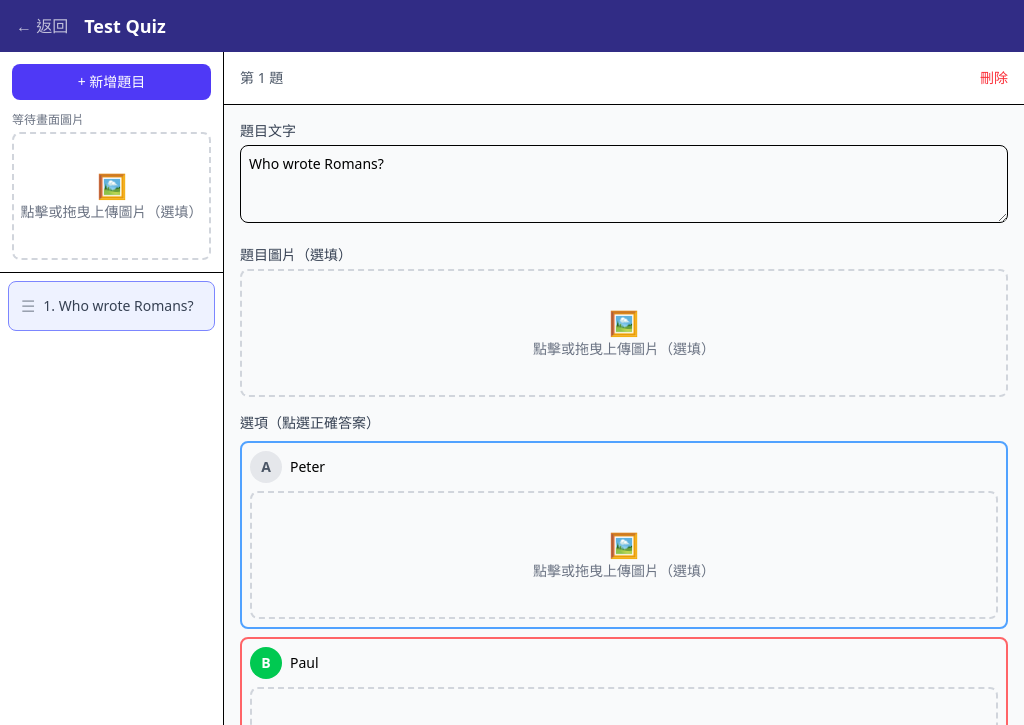
Test: DesignPage › disables 儲存題目 until question text is entered
Check: the heading "Test Quiz" is shown, box [84,14,166,38]
Click the button labelled "+ 新增題目": (112, 82) [12,64,211,100]
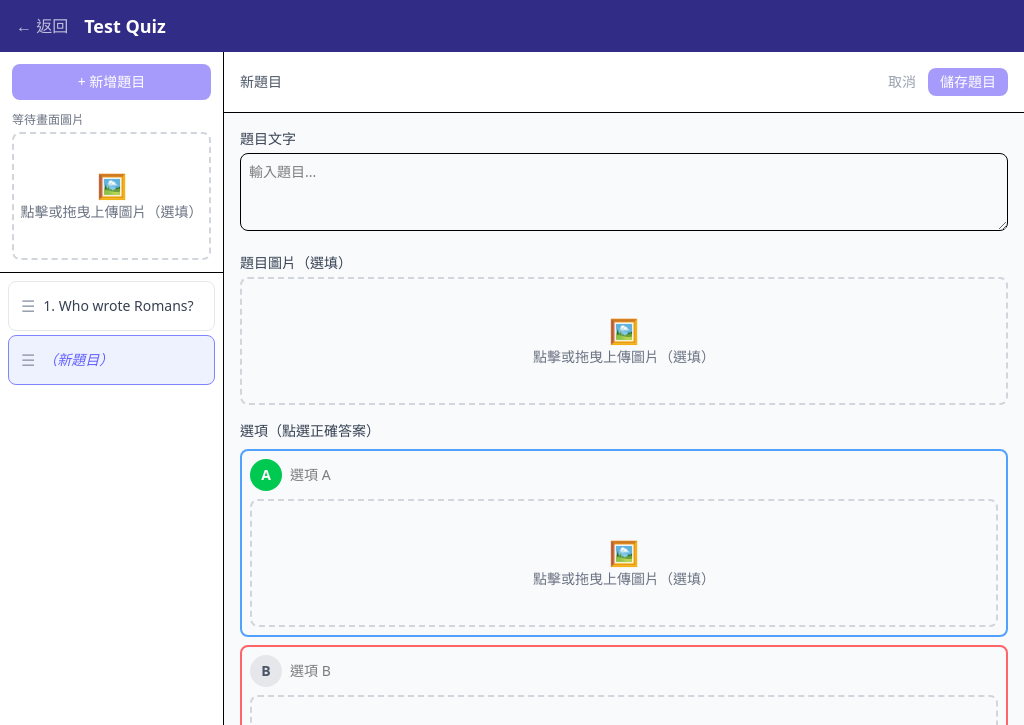
Check: the button "儲存題目" is disabled, box [928,68,1008,96]
In the text box named "題目文字": (624, 192) [240,153,1008,231], type "彼得是誰?"
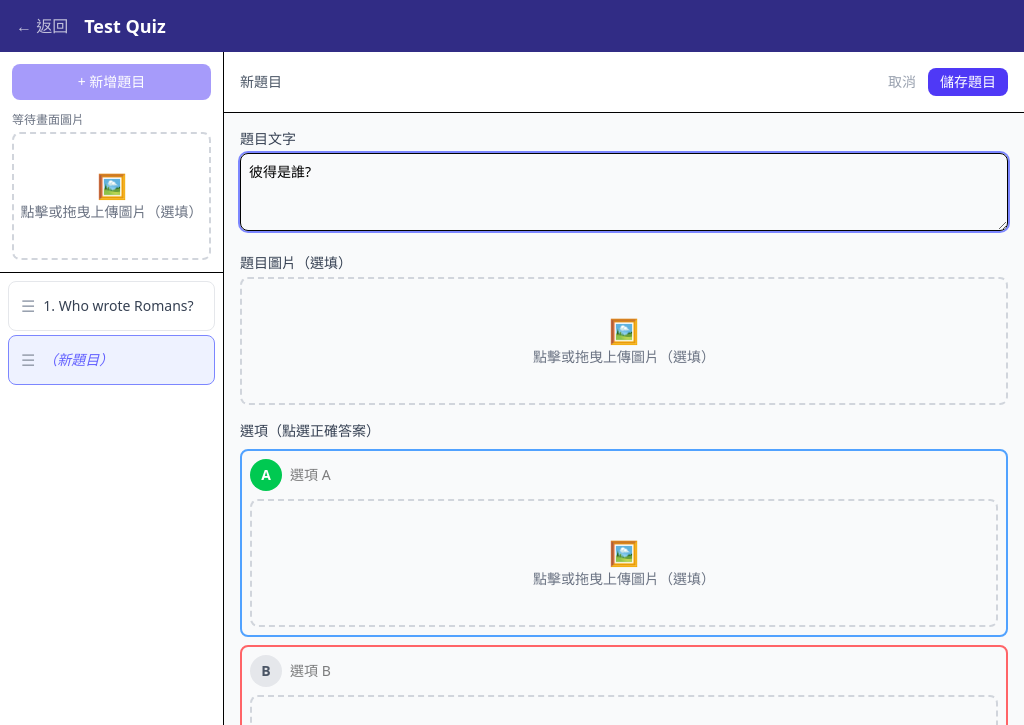
Check: the button "儲存題目" is enabled, box [928,68,1008,96]
